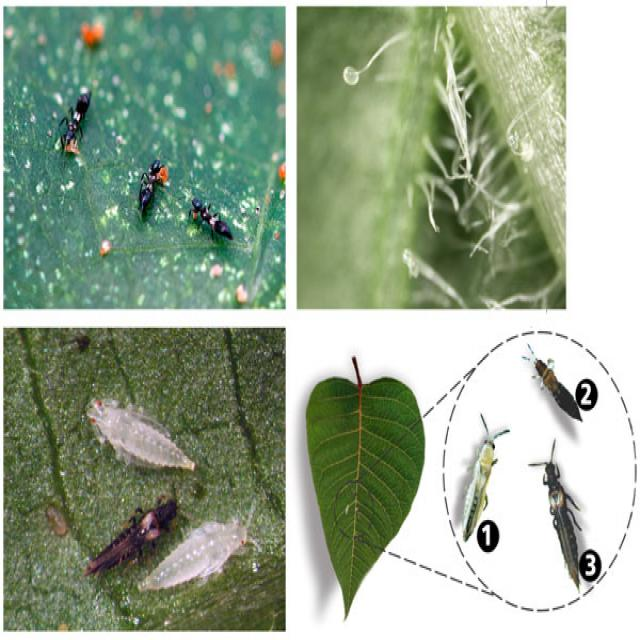Thrip-Adult-: (135, 502, 262, 600), (80, 390, 204, 480), (80, 493, 196, 580), (526, 434, 582, 594), (459, 399, 513, 552), (522, 344, 588, 424)
